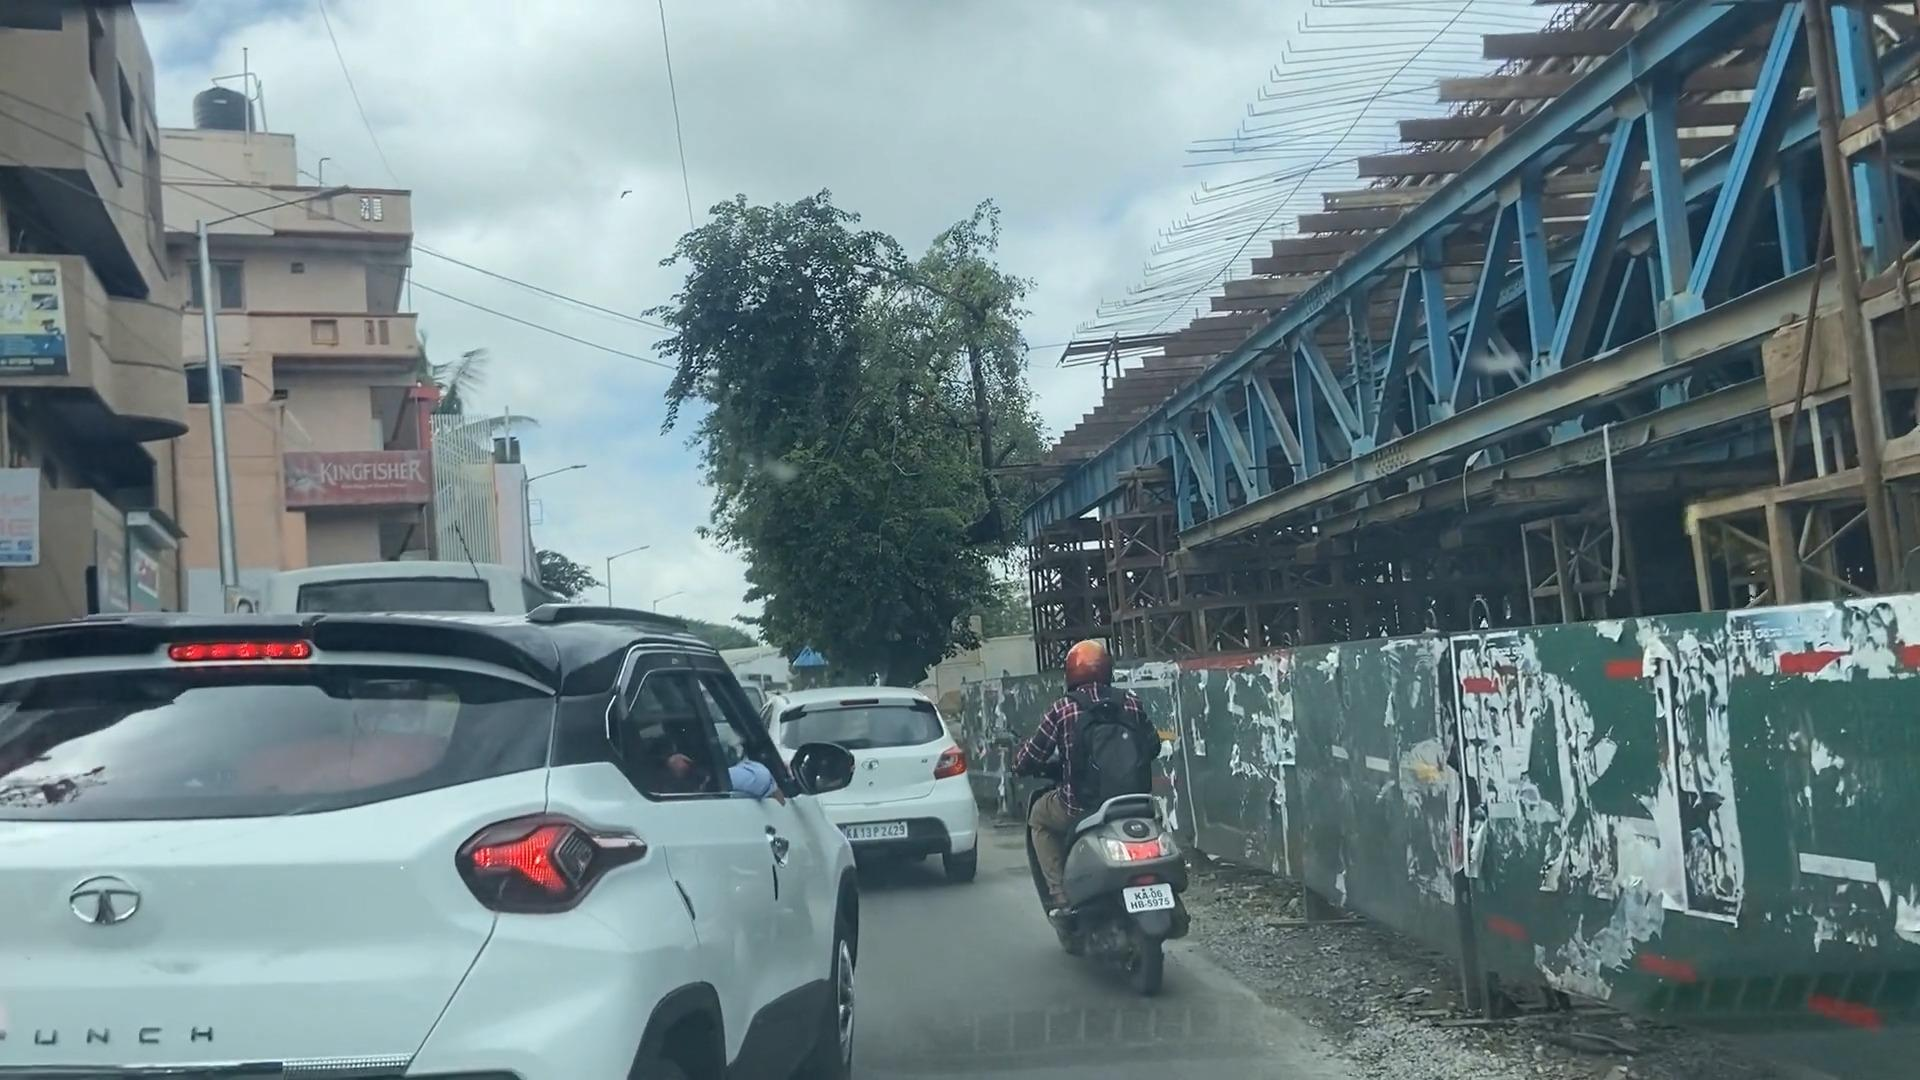LMV: (8, 632, 724, 1076), (1040, 603, 1171, 998)
